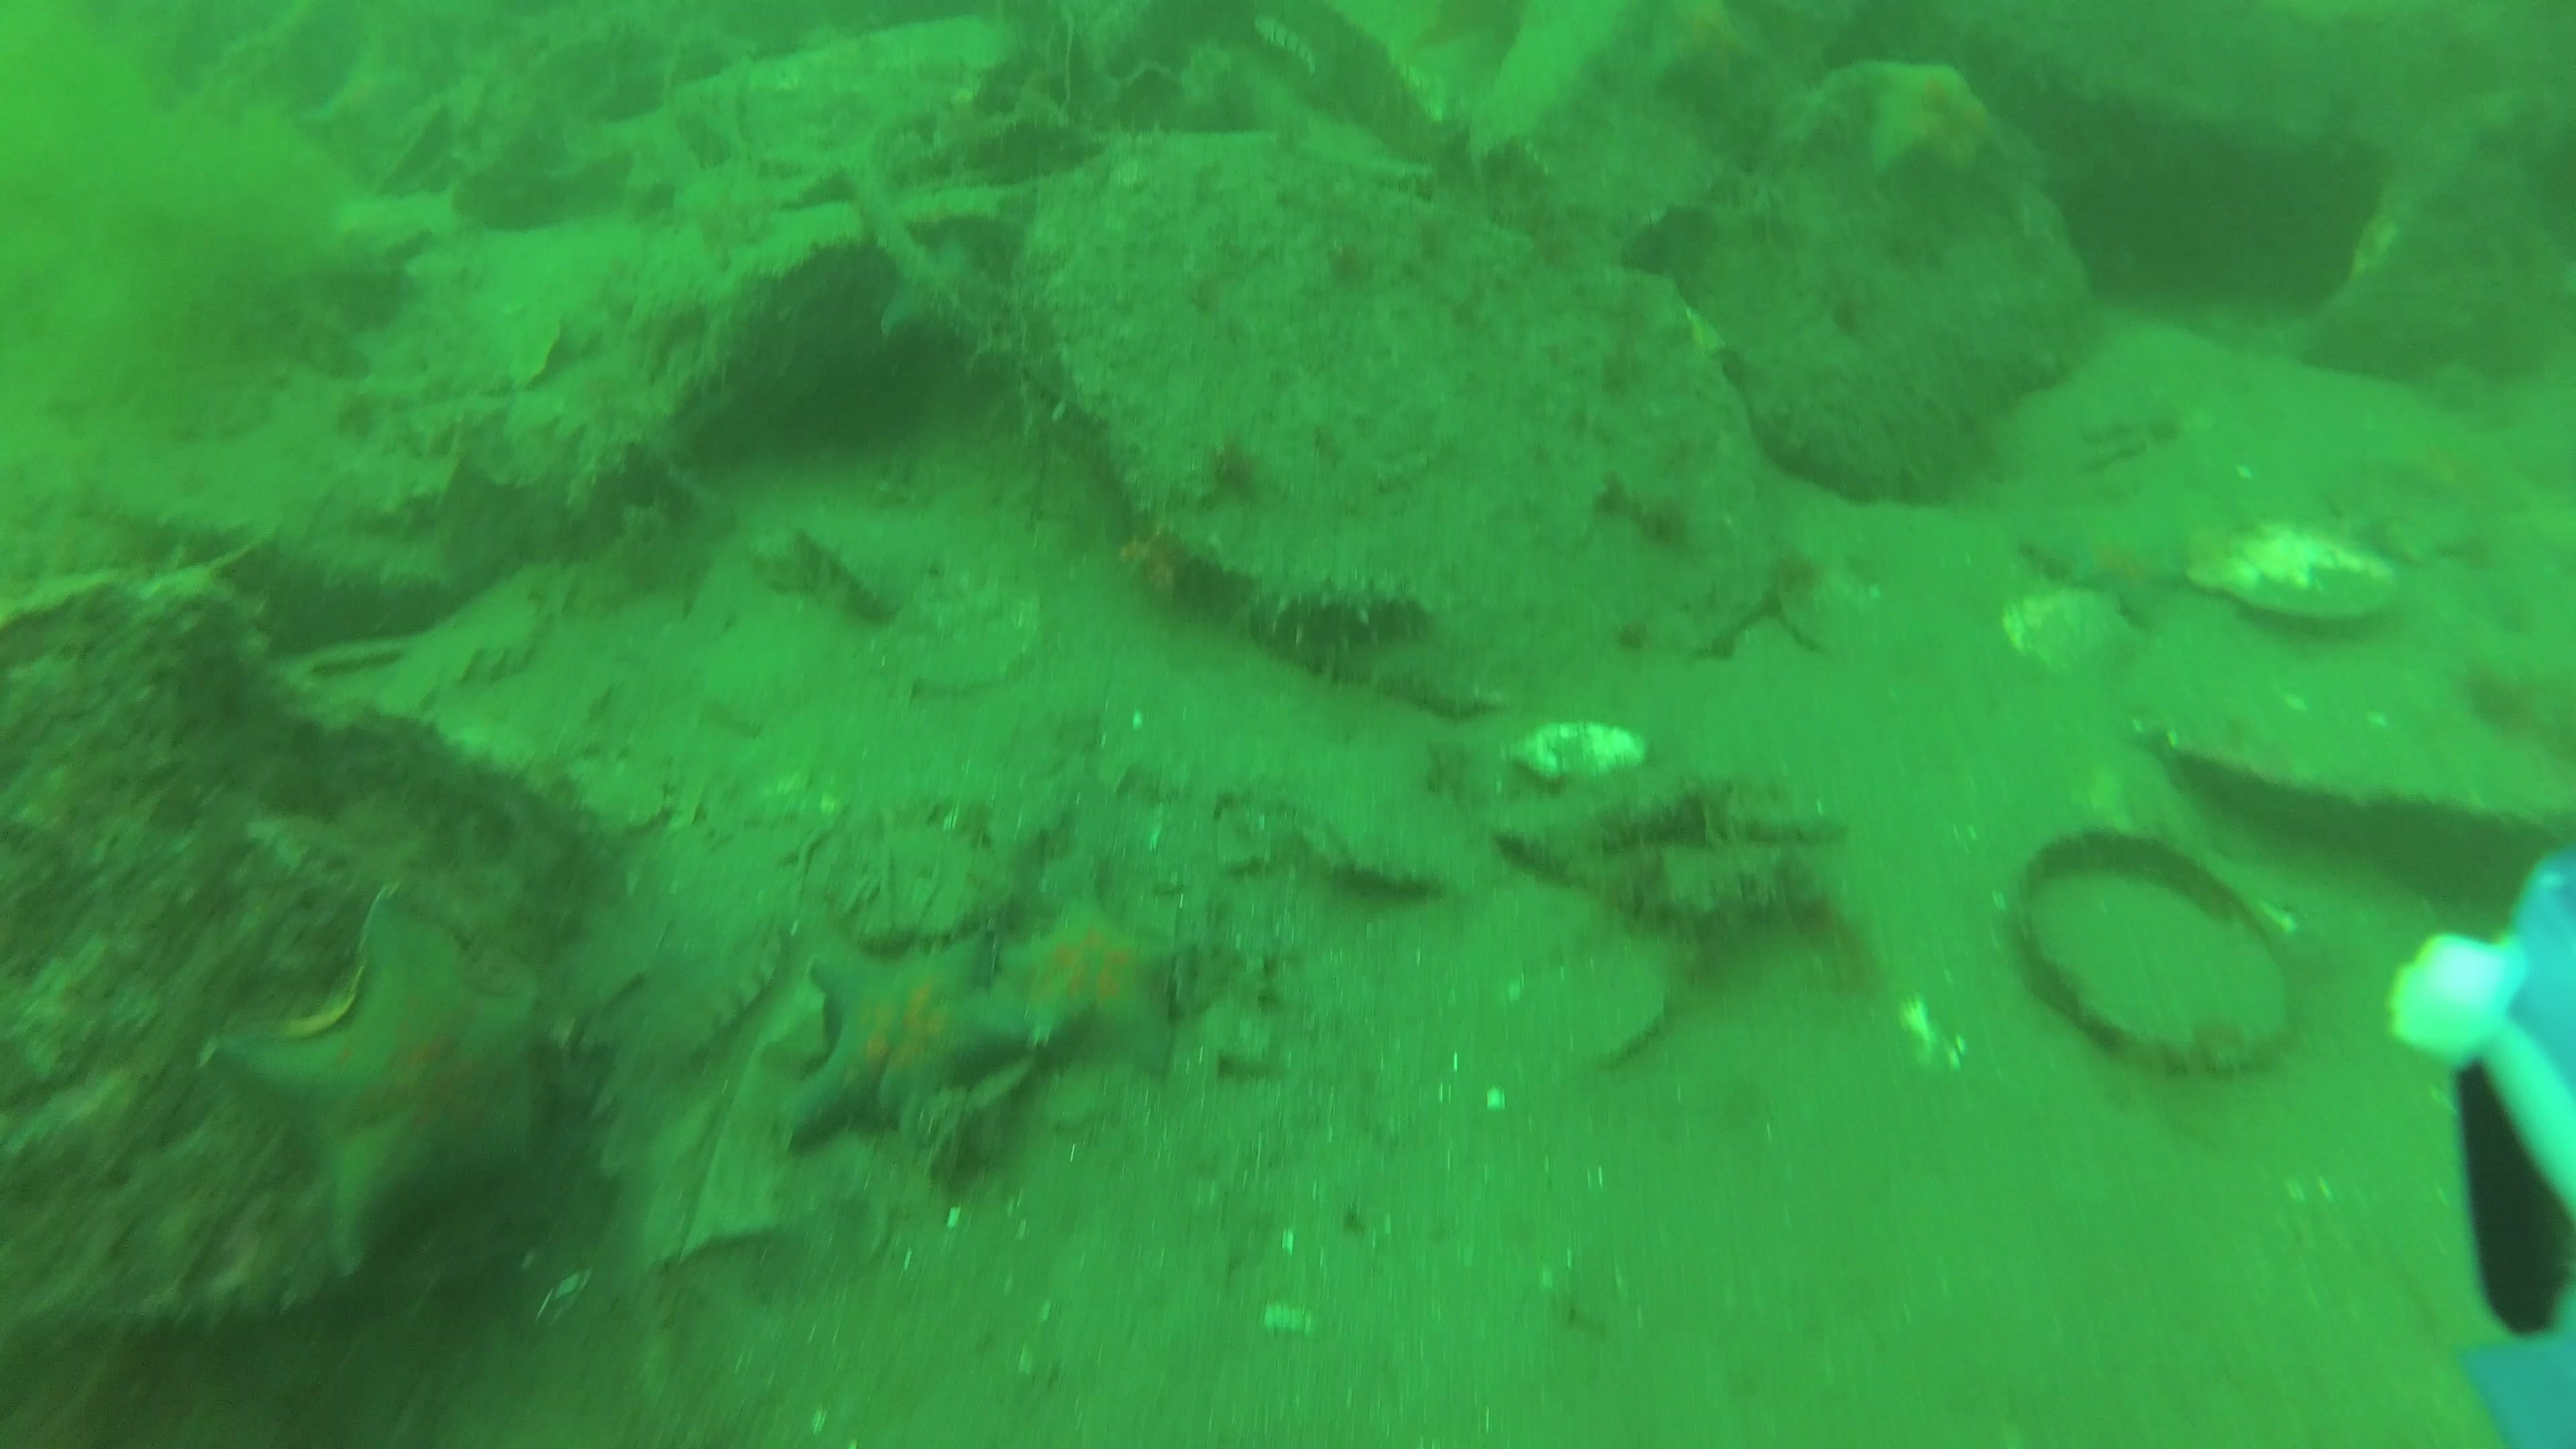holothurian: (1246, 568, 1442, 649)
scallop: (2176, 497, 2417, 637), (1999, 596, 2144, 679), (1511, 720, 1647, 786)
starfish: (205, 888, 552, 1274), (777, 941, 1024, 1161), (1005, 893, 1191, 1074), (2017, 501, 2196, 628), (1863, 64, 1997, 170)
